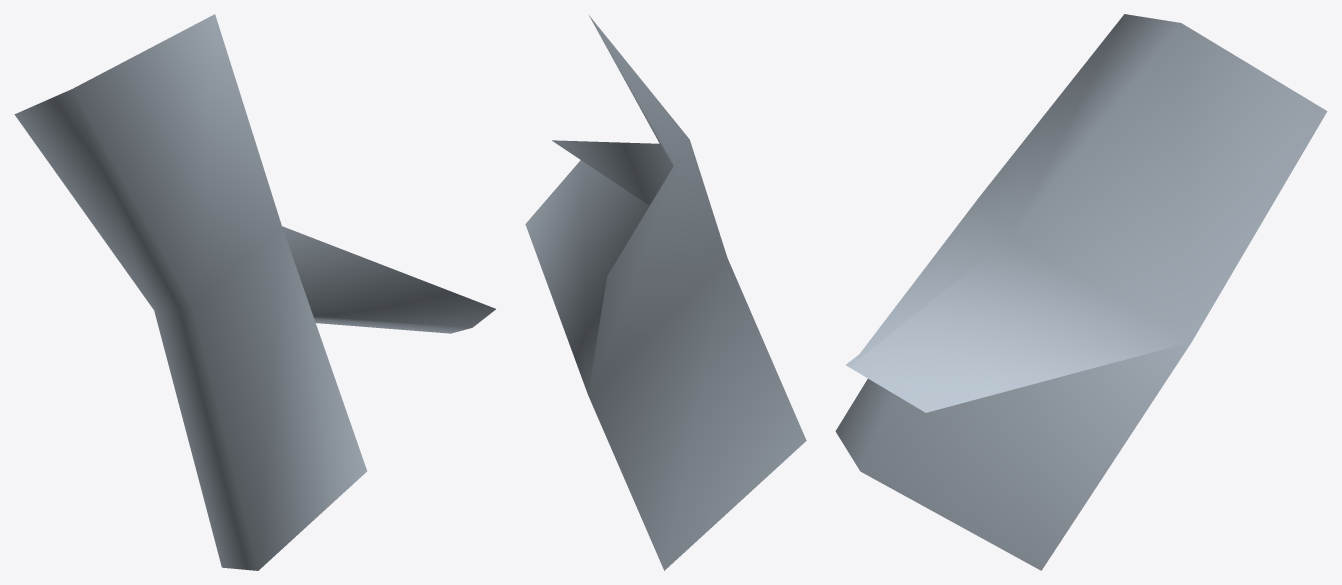
File: radial-collateral-ligament-of-wrist-joint-r.glb
3 views of the same model, side by side, from view 1: azimuth 30°, elevation 25°; view 2: azimuth 150°, elevation 25°; view 3: azimuth 270°, elevation 25° (orthographic). The views are drawn at different scales.
Parts seen in each view (by area): view 1: Radial collateral ligament of wrist joint.r; view 2: Radial collateral ligament of wrist joint.r; view 3: Radial collateral ligament of wrist joint.r.
Boxes of the visible parts, x1,y1,x2,y2 form: Radial collateral ligament of wrist joint.r: [14, 14, 495, 570]; Radial collateral ligament of wrist joint.r: [525, 15, 806, 570]; Radial collateral ligament of wrist joint.r: [835, 14, 1327, 570].
Bounding box in the file's own units: 0.00535 × 0.00969 × 0.00753.
